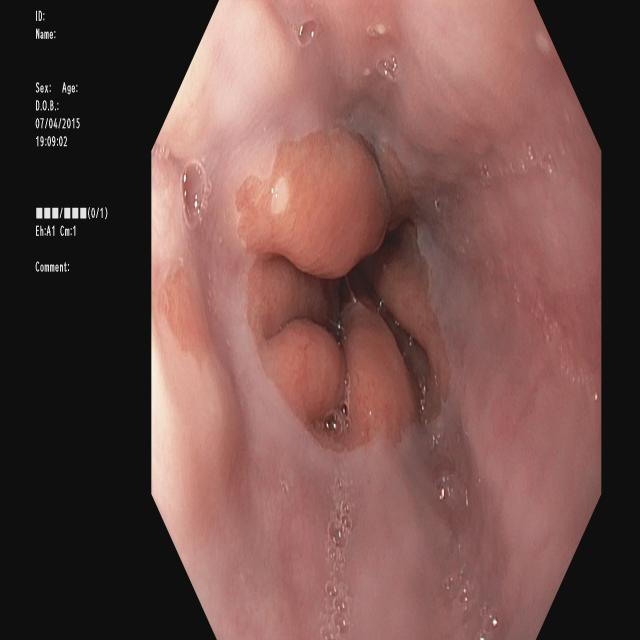Normal-Z-Line: (234, 125, 455, 456), (160, 253, 216, 357)
